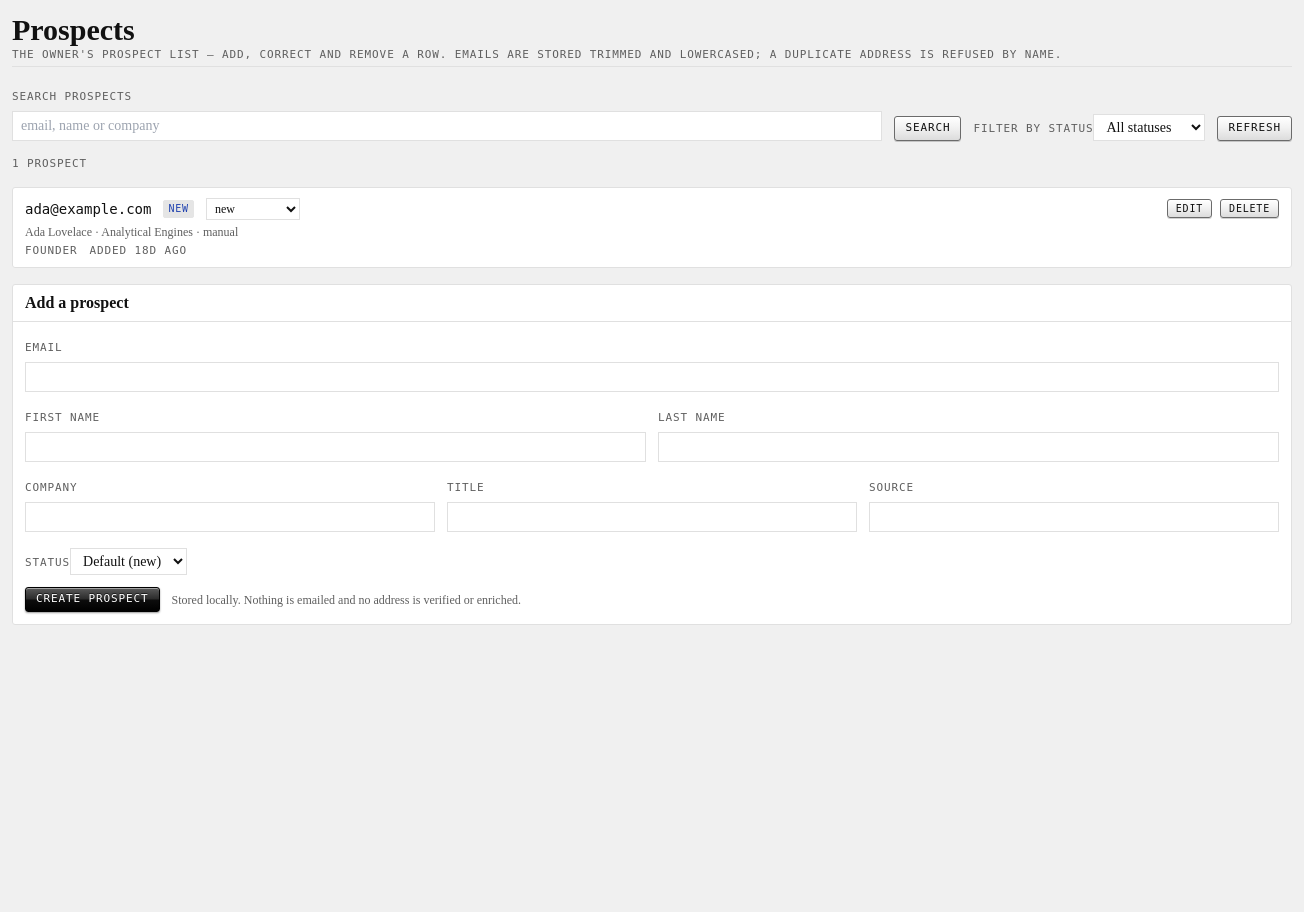
ProspectsPage — branches with no prior coverage › PATCHes an explicit null when the operator empties an optional field
The width and height of the screenshot is (1304, 912).
Click the button "Edit" at (1189,209), box [1167,199,1212,218]
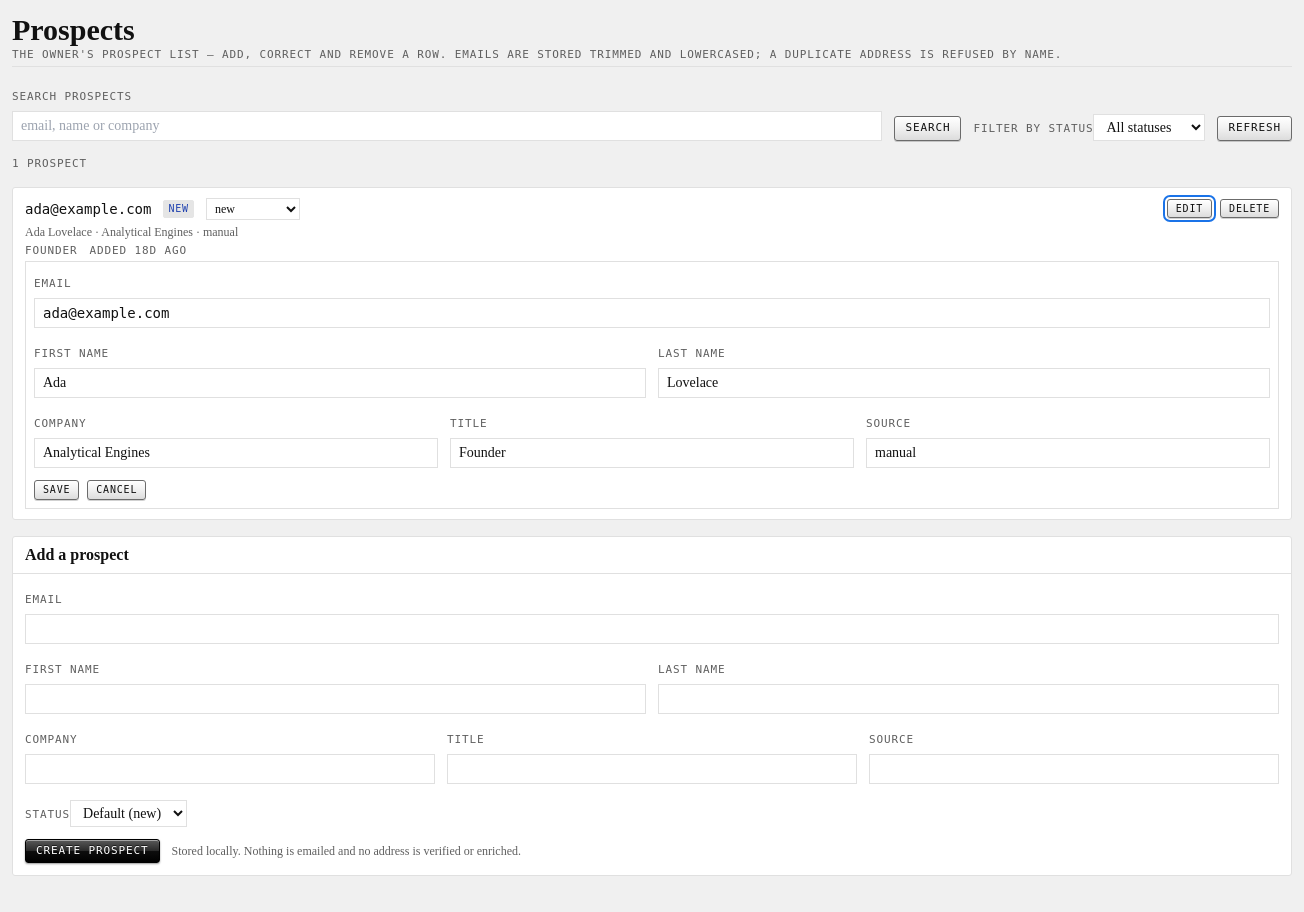
Clear the field labelled "Title" below "Analytical Engines" at (652,453), box [450,438,854,468]
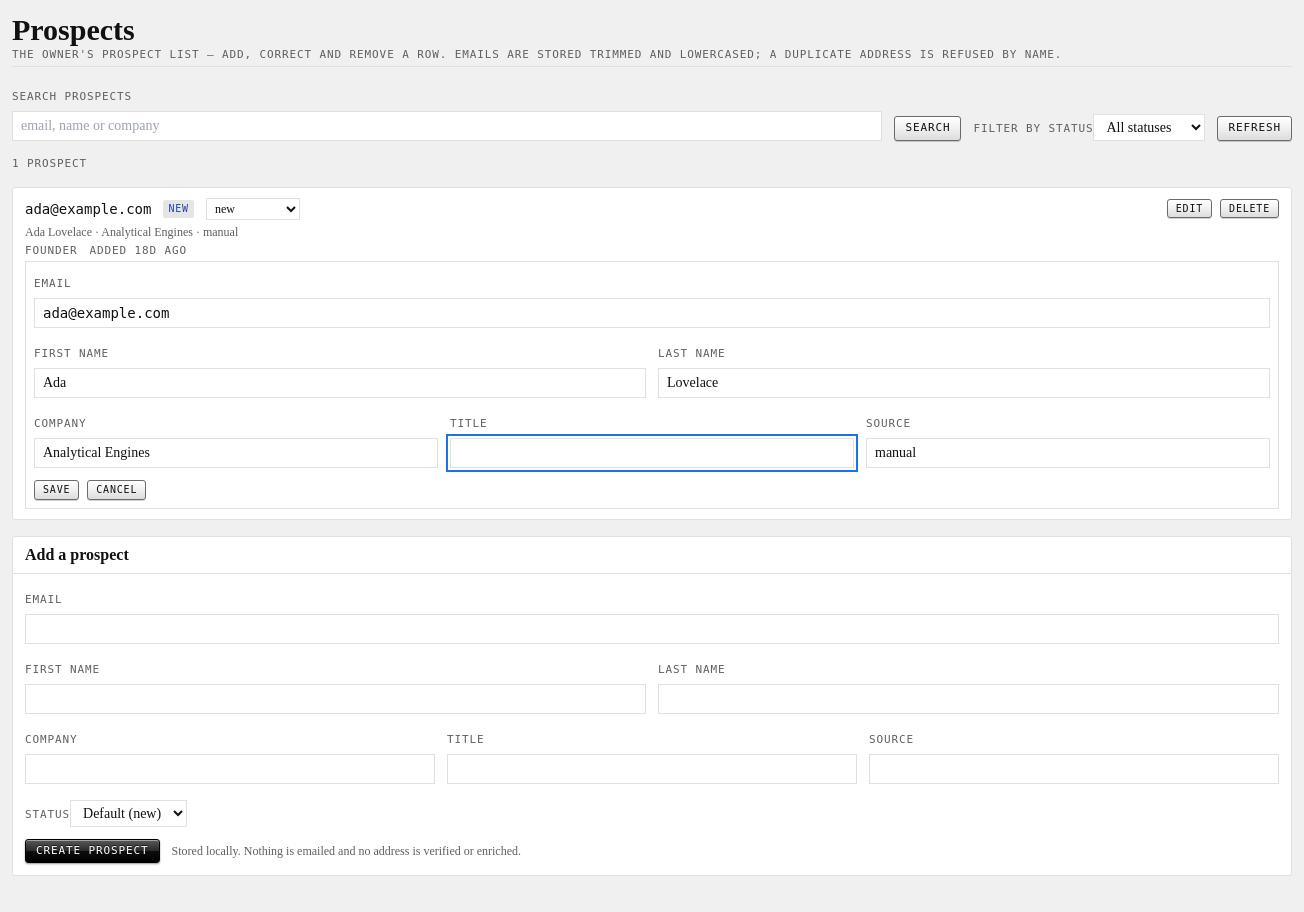
Click the button "Save" at (57,490), box [34,480,79,500]
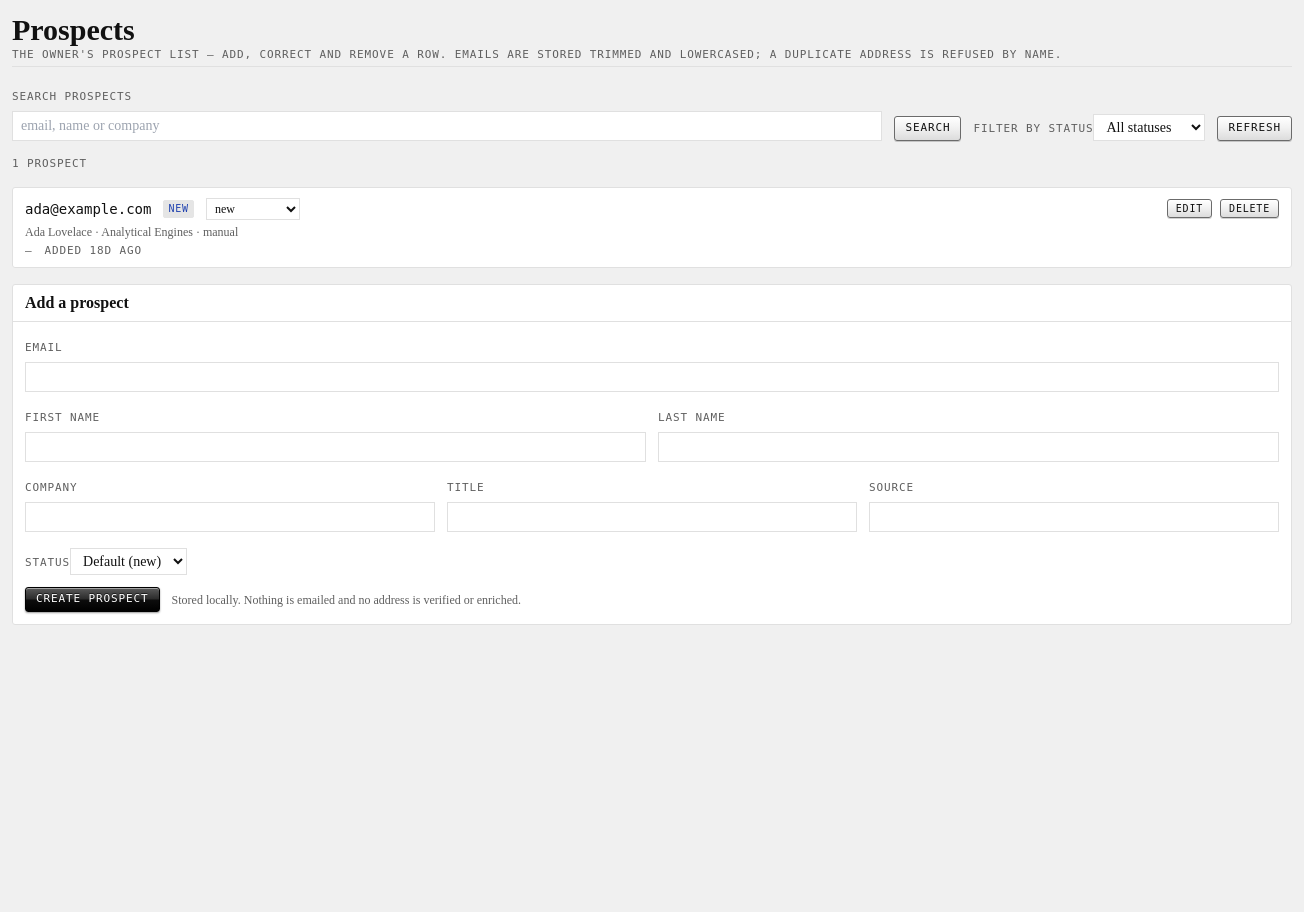
Expected: the text with test id "prospect-title" reads "—", [25,244,32,256]
